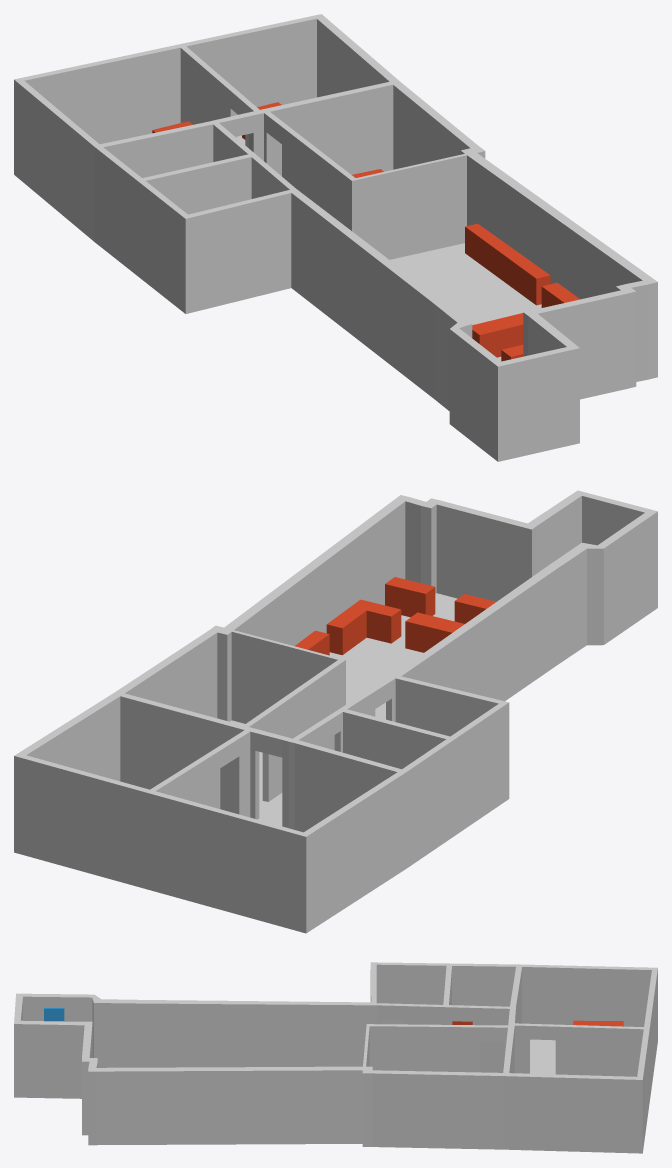
File: Room_mash.fbx
3 renders of one model, top to bottom at view 1: azimuth 30°, elevation 25°; view 2: azimuth 150°, elevation 25°; view 3: azimuth 270°, elevation 25°, orthographic. The views are drawn at different scales.
Parts seen in each view (by area): view 1: Cube, Cube.002; view 2: Cube, Cube.002; view 3: Cube, Cube.002.
Boxes of the visible parts, <box> form: Cube: <box>14,14,657,461</box>; Cube.002: <box>152,102,579,361</box>; Cube: <box>14,490,657,933</box>; Cube.002: <box>295,577,496,655</box>; Cube: <box>14,962,657,1153</box>; Cube.002: <box>452,1020,623,1026</box>.
Size of the model in its own units: 938 by 274 by 2171.
